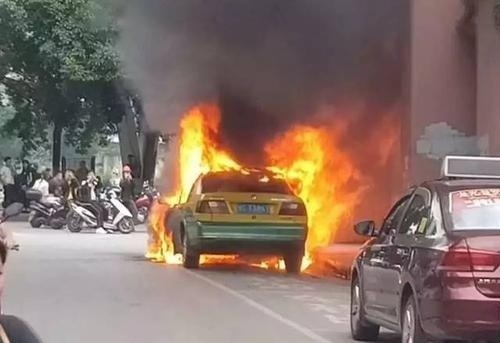fire: (150, 104, 359, 272)
